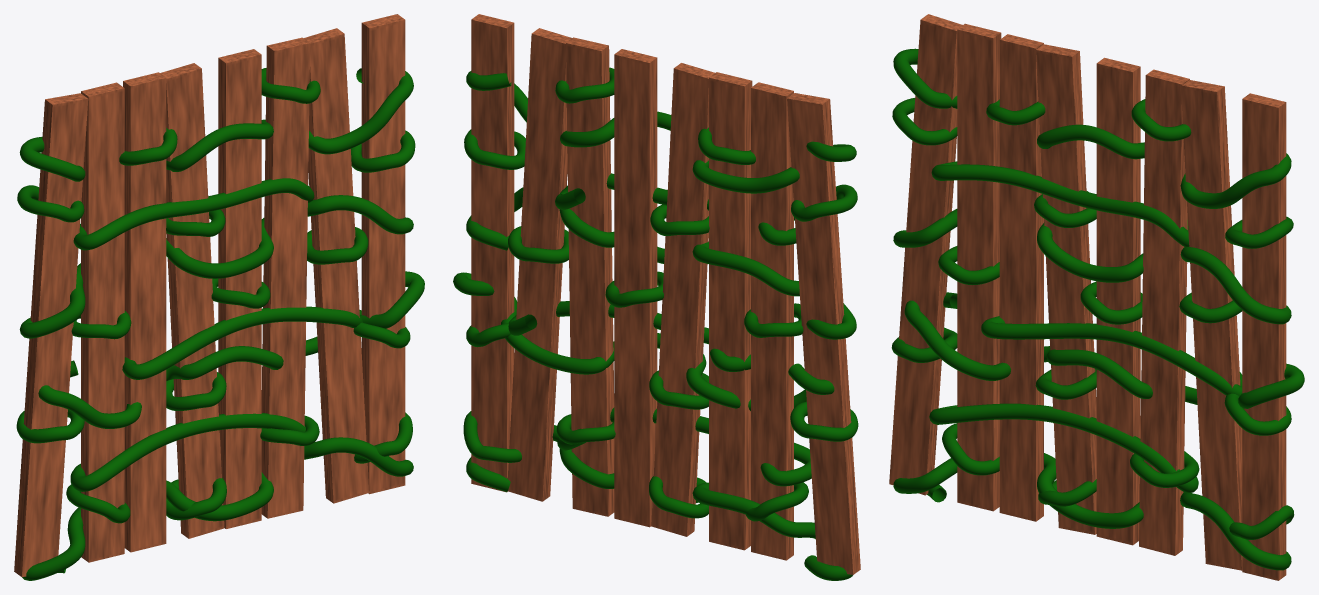
Rendered from Vine_Wall.fbx.
The picture shows the model from 3 angles, left to right: view 1: azimuth 30°, elevation 25°; view 2: azimuth 150°, elevation 25°; view 3: azimuth 330°, elevation 25°; orthographic projection.
Parts seen in each view (by area): view 1: Vine Wall; view 2: Vine Wall; view 3: Vine Wall.
Part boxes in pixels (x1=…): Vine Wall: x1=14, y1=14, x2=424, y2=580; Vine Wall: x1=453, y1=14, x2=860, y2=580; Vine Wall: x1=889, y1=14, x2=1304, y2=580.
Bounding box in the file's own units: 1584 × 1774 × 245.
